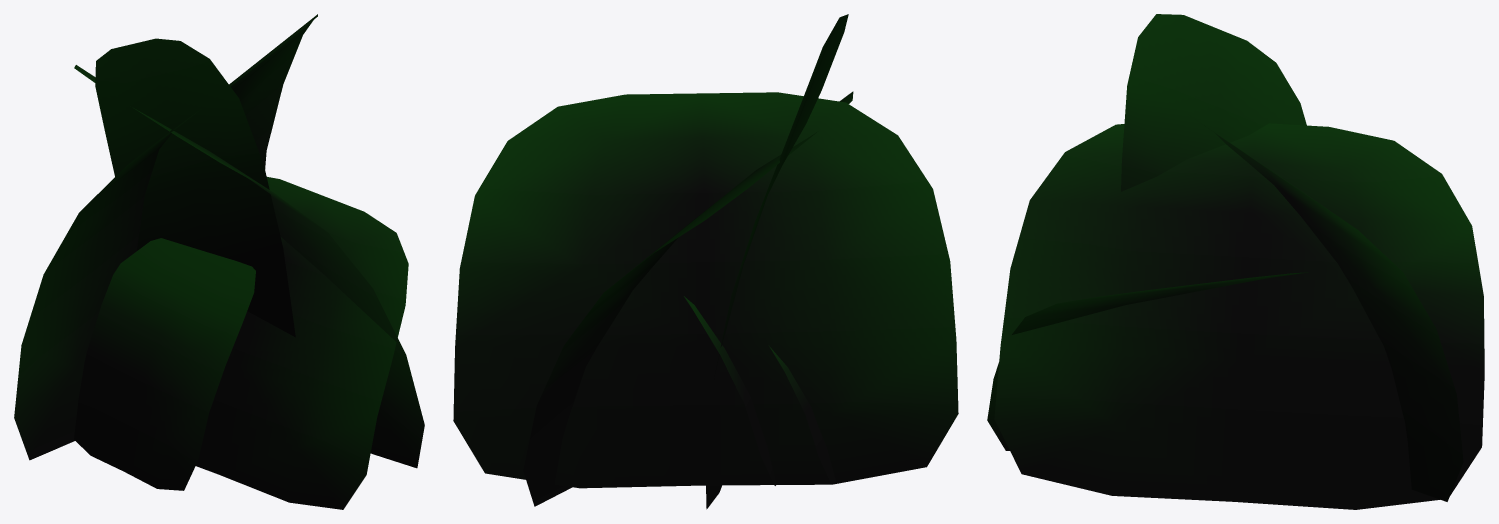
The model's file is GenericGrasbRHE_04_afsTREE_xlod00_xlp.fbx.
3 renders of one model, left to right at view 1: azimuth 30°, elevation 25°; view 2: azimuth 150°, elevation 25°; view 3: azimuth 270°, elevation 25°, orthographic. The views are drawn at different scales.
Parts seen in each view (by area): view 1: GenericGrasbRHE_04_Leaf_xt02_xw05; view 2: GenericGrasbRHE_04_Leaf_xt02_xw05; view 3: GenericGrasbRHE_04_Leaf_xt02_xw05.
Boxes of the visible parts, box(x1,y1,x2,y2) form: GenericGrasbRHE_04_Leaf_xt02_xw05: box(14, 14, 424, 509); GenericGrasbRHE_04_Leaf_xt02_xw05: box(453, 14, 958, 509); GenericGrasbRHE_04_Leaf_xt02_xw05: box(987, 14, 1484, 509).
Bounding box in the file's own units: 0.4703 × 0.5346 × 0.5505.
